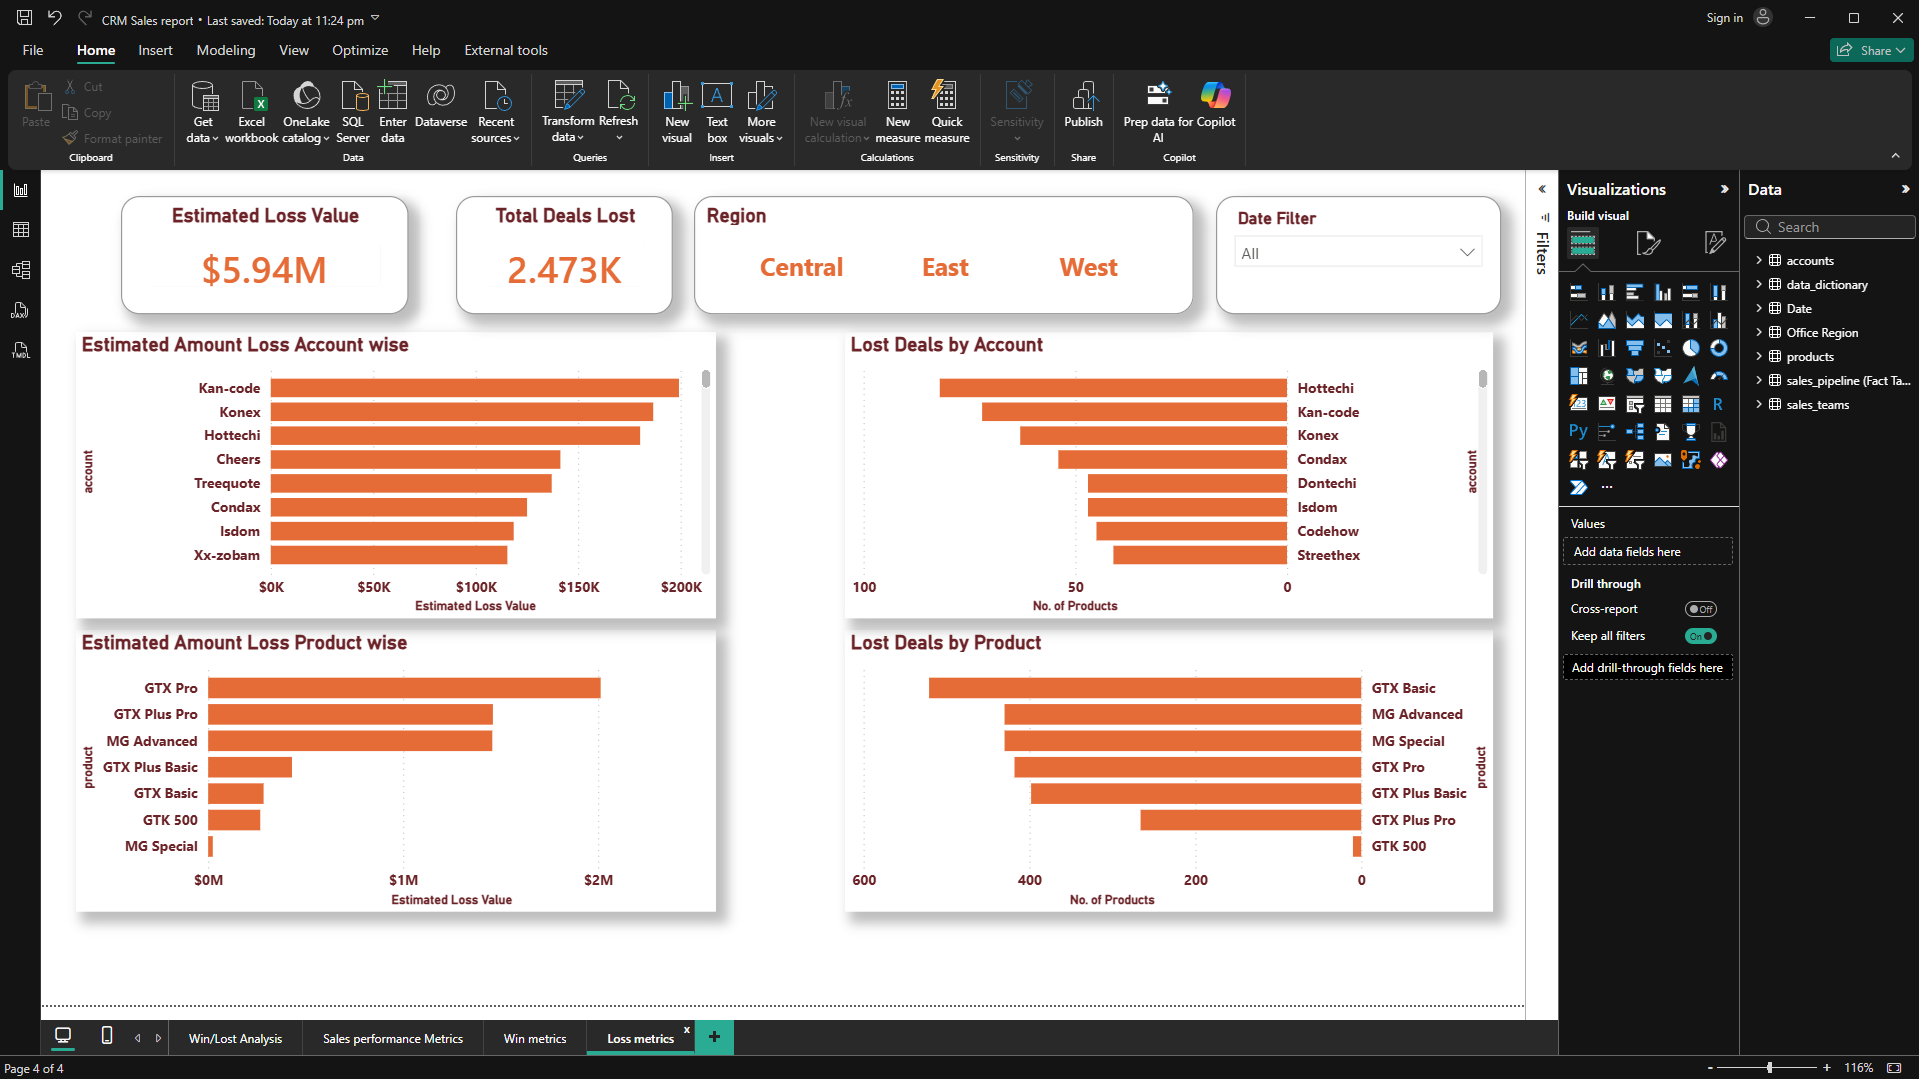

The dashboard page shown, as its layout file describes it:
{"tool":"powerbi","page":{"name":"Loss metrics","canvas":[1280,720],"ordinal":3},"visuals":[{"type":"barChart","title":"Estimated Amount Loss Product wise","fields":{"Category":["products.product"],"Y":["sales_pipeline (Fact Table).Estimated Loss Value"]},"box":[30.2,396.8,552.5,243.2],"z":0},{"type":"barChart","title":"Lost Deals by Product","fields":{"Category":["products.product"],"Y":["sales_pipeline (Fact Table).Lost Opportunities"]},"box":[693.5,396.8,559.3,243.2],"z":1000},{"type":"barChart","title":"Estimated Amount Loss Account wise","fields":{"Category":["accounts.account"],"Y":["sales_pipeline (Fact Table).Estimated Loss Value"]},"box":[30.2,140.1,552.5,247.1],"z":2000},{"type":"barChart","title":"Lost Deals by Account","fields":{"Category":["accounts.account"],"Y":["sales_pipeline (Fact Table).Lost Opportunities"]},"box":[693.5,140.1,559.3,247.1],"z":3000},{"type":"slicer","fields":{"Values":["Date.Date.Variation.Date Hierarchy.Quarter","Date.Date.Variation.Date Hierarchy.Month"]},"box":[1013.5,22.4,245.8,101.8],"z":4000},{"type":"cardVisual","title":"Estimated Loss Value","fields":{"Data":["sales_pipeline (Fact Table).Estimated Loss Value"]},"box":[68.9,22.1,247.5,101.8],"z":5000},{"type":"cardVisual","title":"Total Deals Lost","fields":{"Data":["sales_pipeline (Fact Table).Lost Opportunities"]},"box":[358,22.4,187.2,101.8],"z":6000},{"type":"slicer","title":"Region","fields":{"Values":["sales_teams.regional_office"]},"box":[563.2,22.4,431.3,101.8],"z":7000}]}

Visuals, with their boxes on the page's 1280x720 design canvas (x1, y1, x2, y2). These are canvas units, not pixel positions in the 1919x1079 screenshot, which may show the page scaled, cropped or inside an application window:
"Estimated Amount Loss Product wise" barChart: <box>30,397,583,640</box>
"Lost Deals by Product" barChart: <box>694,397,1253,640</box>
"Estimated Amount Loss Account wise" barChart: <box>30,140,583,387</box>
"Lost Deals by Account" barChart: <box>694,140,1253,387</box>
slicer - Date.Date.Variation.Date Hierarchy.Quarter x Date.Date.Variation.Date Hierarchy.Month: <box>1014,22,1259,124</box>
"Estimated Loss Value" cardVisual: <box>69,22,316,124</box>
"Total Deals Lost" cardVisual: <box>358,22,545,124</box>
"Region" slicer: <box>563,22,994,124</box>
